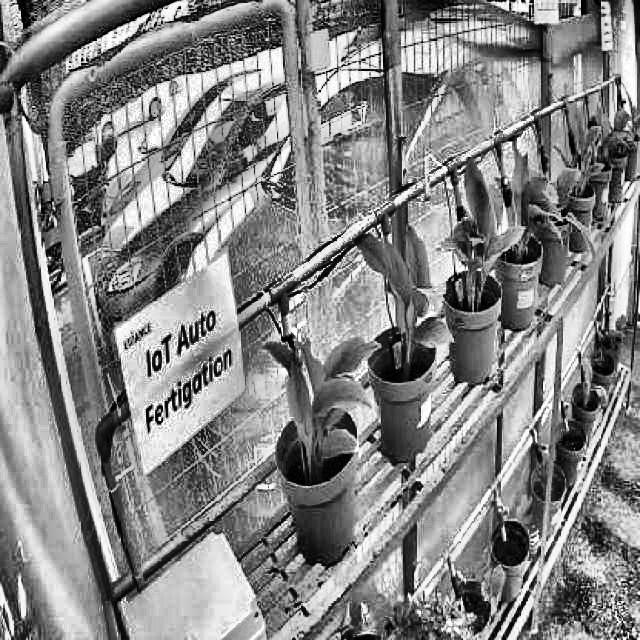plants: (262, 332, 378, 476), (352, 220, 456, 380), (440, 150, 520, 316), (490, 154, 564, 268), (560, 112, 606, 203)
